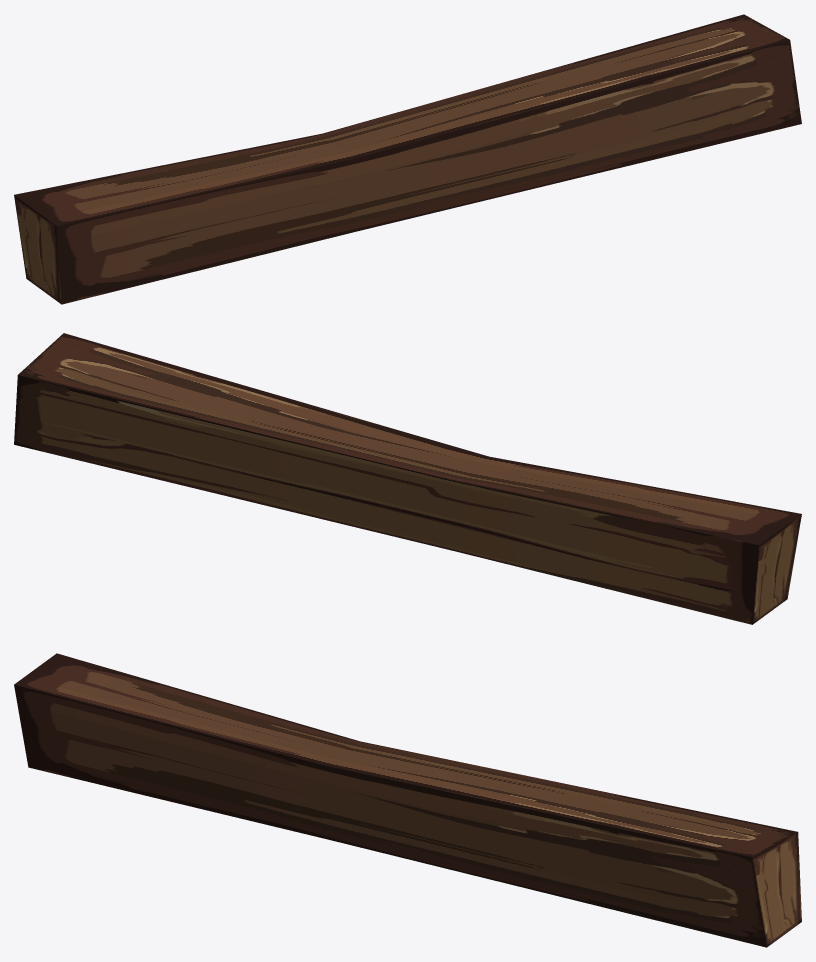
The model's file is SM_PROP_beam_wood_dungeon_01.fbx.
3 views of the same model, one above another, from view 1: azimuth 30°, elevation 25°; view 2: azimuth 150°, elevation 25°; view 3: azimuth 330°, elevation 25° (orthographic).
Parts seen in each view (by area): view 1: SM_PROP_beam_wood_dungeon_01; view 2: SM_PROP_beam_wood_dungeon_01; view 3: SM_PROP_beam_wood_dungeon_01.
Part boxes in pixels (<box>): SM_PROP_beam_wood_dungeon_01: <box>14,14,801,304</box>; SM_PROP_beam_wood_dungeon_01: <box>14,333,801,624</box>; SM_PROP_beam_wood_dungeon_01: <box>14,653,801,947</box>.
Size of the model in its own units: 203 by 23.13 by 23.18.
